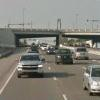Bridge: (6, 15, 95, 46)
